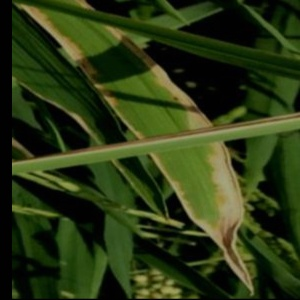Leaf_Blast: (165, 140, 245, 247)
